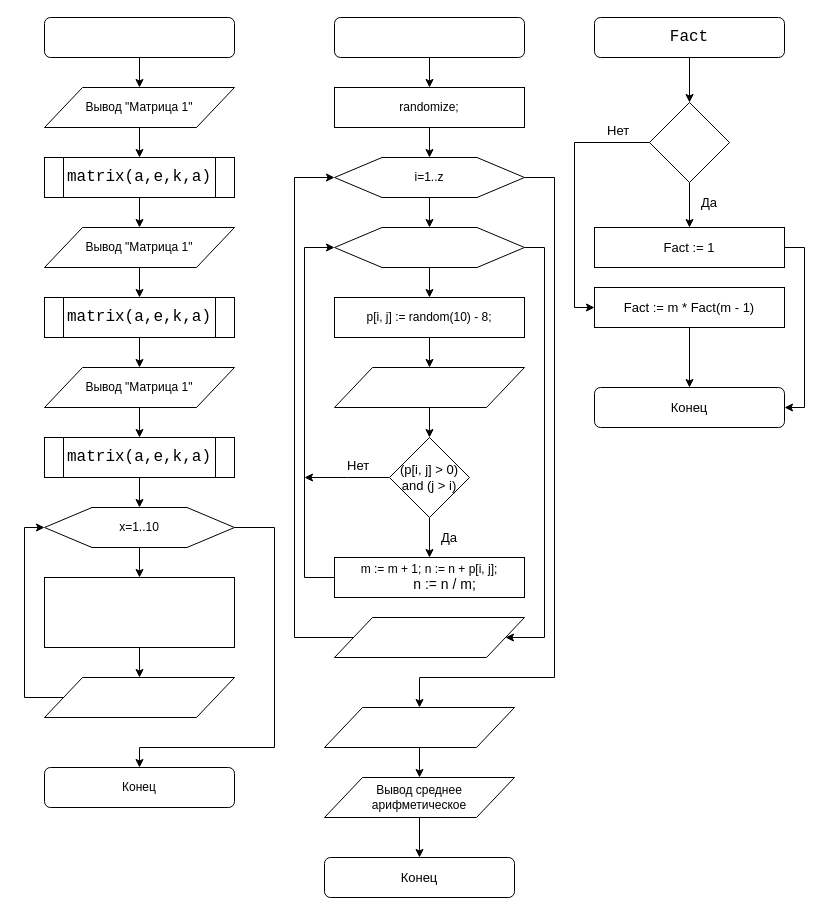
Image size: 830x915. Some labels were removed from this diagram. The shapes that lost their labels are listed below. From the top down, each one's centre as x and y in pixels, then its label:
pixel 139 37: Начало
pixel 429 37: matrix
pixel 689 142: m = 0
pixel 429 247: j=1..z
pixel 429 387: Вывод элемента
pixel 139 612: y:=(k*power(Fact(x),a)+(k+m)*power(x,b))/ (((k*n)* power(Fact(x),c))*x);
pixel 429 637: Перенос строки
pixel 139 697: Вывод x и y
pixel 419 727: Вывод кол-ва положительных
